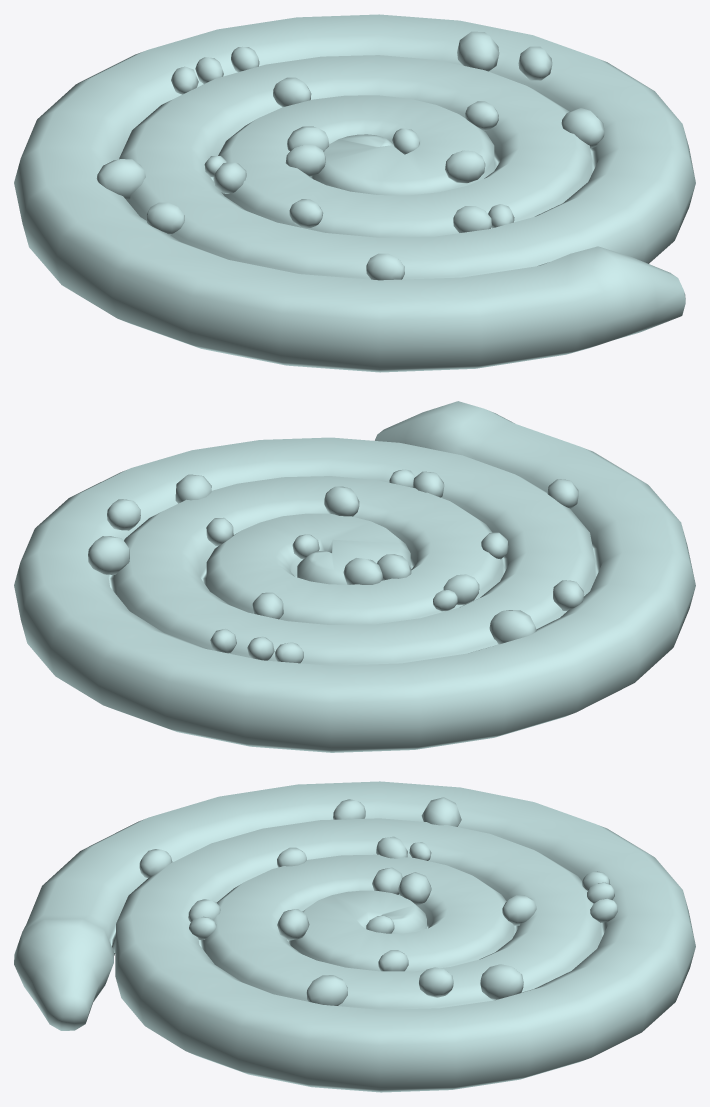
Rendered from PROPS_GOODS_RAISINBREAD_MODEL.fbx.
3 views of the same model, one above another, from view 1: azimuth 30°, elevation 25°; view 2: azimuth 150°, elevation 25°; view 3: azimuth 270°, elevation 25° (orthographic). The views are drawn at different scales.
Visible parts, largest first — view 1: PROPS_GOODS_RAISINBREAD_MODEL_low; view 2: PROPS_GOODS_RAISINBREAD_MODEL_low; view 3: PROPS_GOODS_RAISINBREAD_MODEL_low.
Part boxes in pixels (bbox=[...]): PROPS_GOODS_RAISINBREAD_MODEL_low: bbox=[14, 14, 695, 372]; PROPS_GOODS_RAISINBREAD_MODEL_low: bbox=[14, 401, 695, 752]; PROPS_GOODS_RAISINBREAD_MODEL_low: bbox=[14, 781, 695, 1092].
Size of the model in its own units: 12.73 by 2.07 by 13.76.
